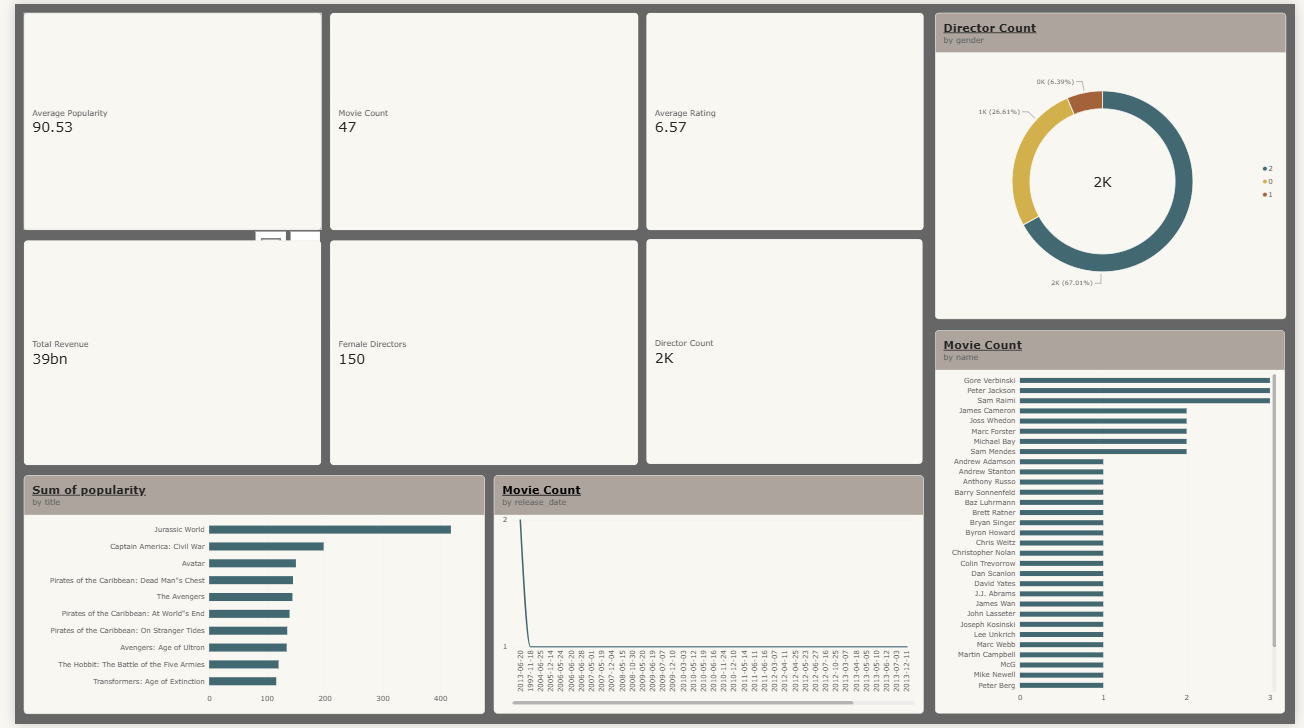

This screenshot's page, from the dashboard's own definition file:
{"tool":"powerbi","page":{"name":"Page 1","canvas":[2560,1440],"ordinal":0},"visuals":[{"type":"cardVisual","fields":{"Data":["Directors.Average Popularity"]},"box":[17.5,17.5,595,435],"z":0},{"type":"cardVisual","fields":{"Data":["Directors.Average Rating"]},"box":[1262.5,17.5,555,435],"z":1},{"type":"cardVisual","fields":{"Data":["Directors.Director Count"]},"box":[1263.3,470,553.3,450],"z":2},{"type":"cardVisual","fields":{"Data":["Directors.Female Directors"]},"box":[630,473.3,616.7,450],"z":3},{"type":"cardVisual","fields":{"Data":["Directors.Movie Count"]},"box":[630,17.5,617.5,435],"z":4},{"type":"cardVisual","fields":{"Data":["Directors.Total Revenue"]},"box":[17.5,472.5,595,450],"z":5},{"type":"lineChart","fields":{"Category":["Movies.release_date"],"Y":["Directors.Movie Count"]},"box":[956.7,943.3,860,476.7],"z":6},{"type":"barChart","fields":{"Category":["Movies.title"],"Y":["Sum(Movies.popularity)"]},"box":[17.5,942.5,922.5,477.5],"z":7},{"type":"clusteredBarChart","fields":{"Category":["Directors.name"],"Y":["Directors.Movie Count"]},"box":[1840,653.3,700,766.7],"z":8},{"type":"donutChart","fields":{"Category":["Directors.gender"],"Y":["Directors.Director Count"]},"box":[1840,17.5,702.5,612.5],"z":9}]}

Visuals, with their boxes in screenshot pixels (x1, y1, x2, y2), scaled from the page's 2560x1440 canvas onto the 1304x728 screenshot:
cardVisual - Directors.Average Popularity: <box>9,9,312,229</box>
cardVisual - Directors.Average Rating: <box>643,9,926,229</box>
cardVisual - Directors.Director Count: <box>643,238,925,465</box>
cardVisual - Directors.Female Directors: <box>321,239,635,467</box>
cardVisual - Directors.Movie Count: <box>321,9,635,229</box>
cardVisual - Directors.Total Revenue: <box>9,239,312,466</box>
lineChart - Movies.release_date x Directors.Movie Count: <box>487,477,925,718</box>
barChart - Movies.title x Sum(Movies.popularity): <box>9,476,479,718</box>
clusteredBarChart - Directors.name x Directors.Movie Count: <box>937,330,1294,718</box>
donutChart - Directors.gender x Directors.Director Count: <box>937,9,1295,318</box>
